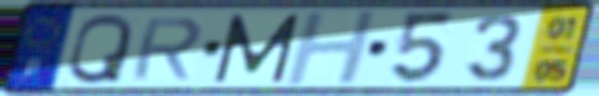3: (460, 12, 528, 83)
5: (389, 9, 460, 87)
H: (282, 8, 382, 89)
M: (210, 11, 304, 85)
Q: (64, 10, 137, 87)
R: (127, 15, 207, 82)
